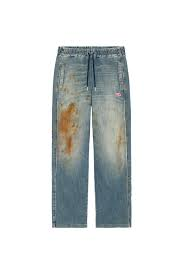earth: (58, 103, 77, 155)
